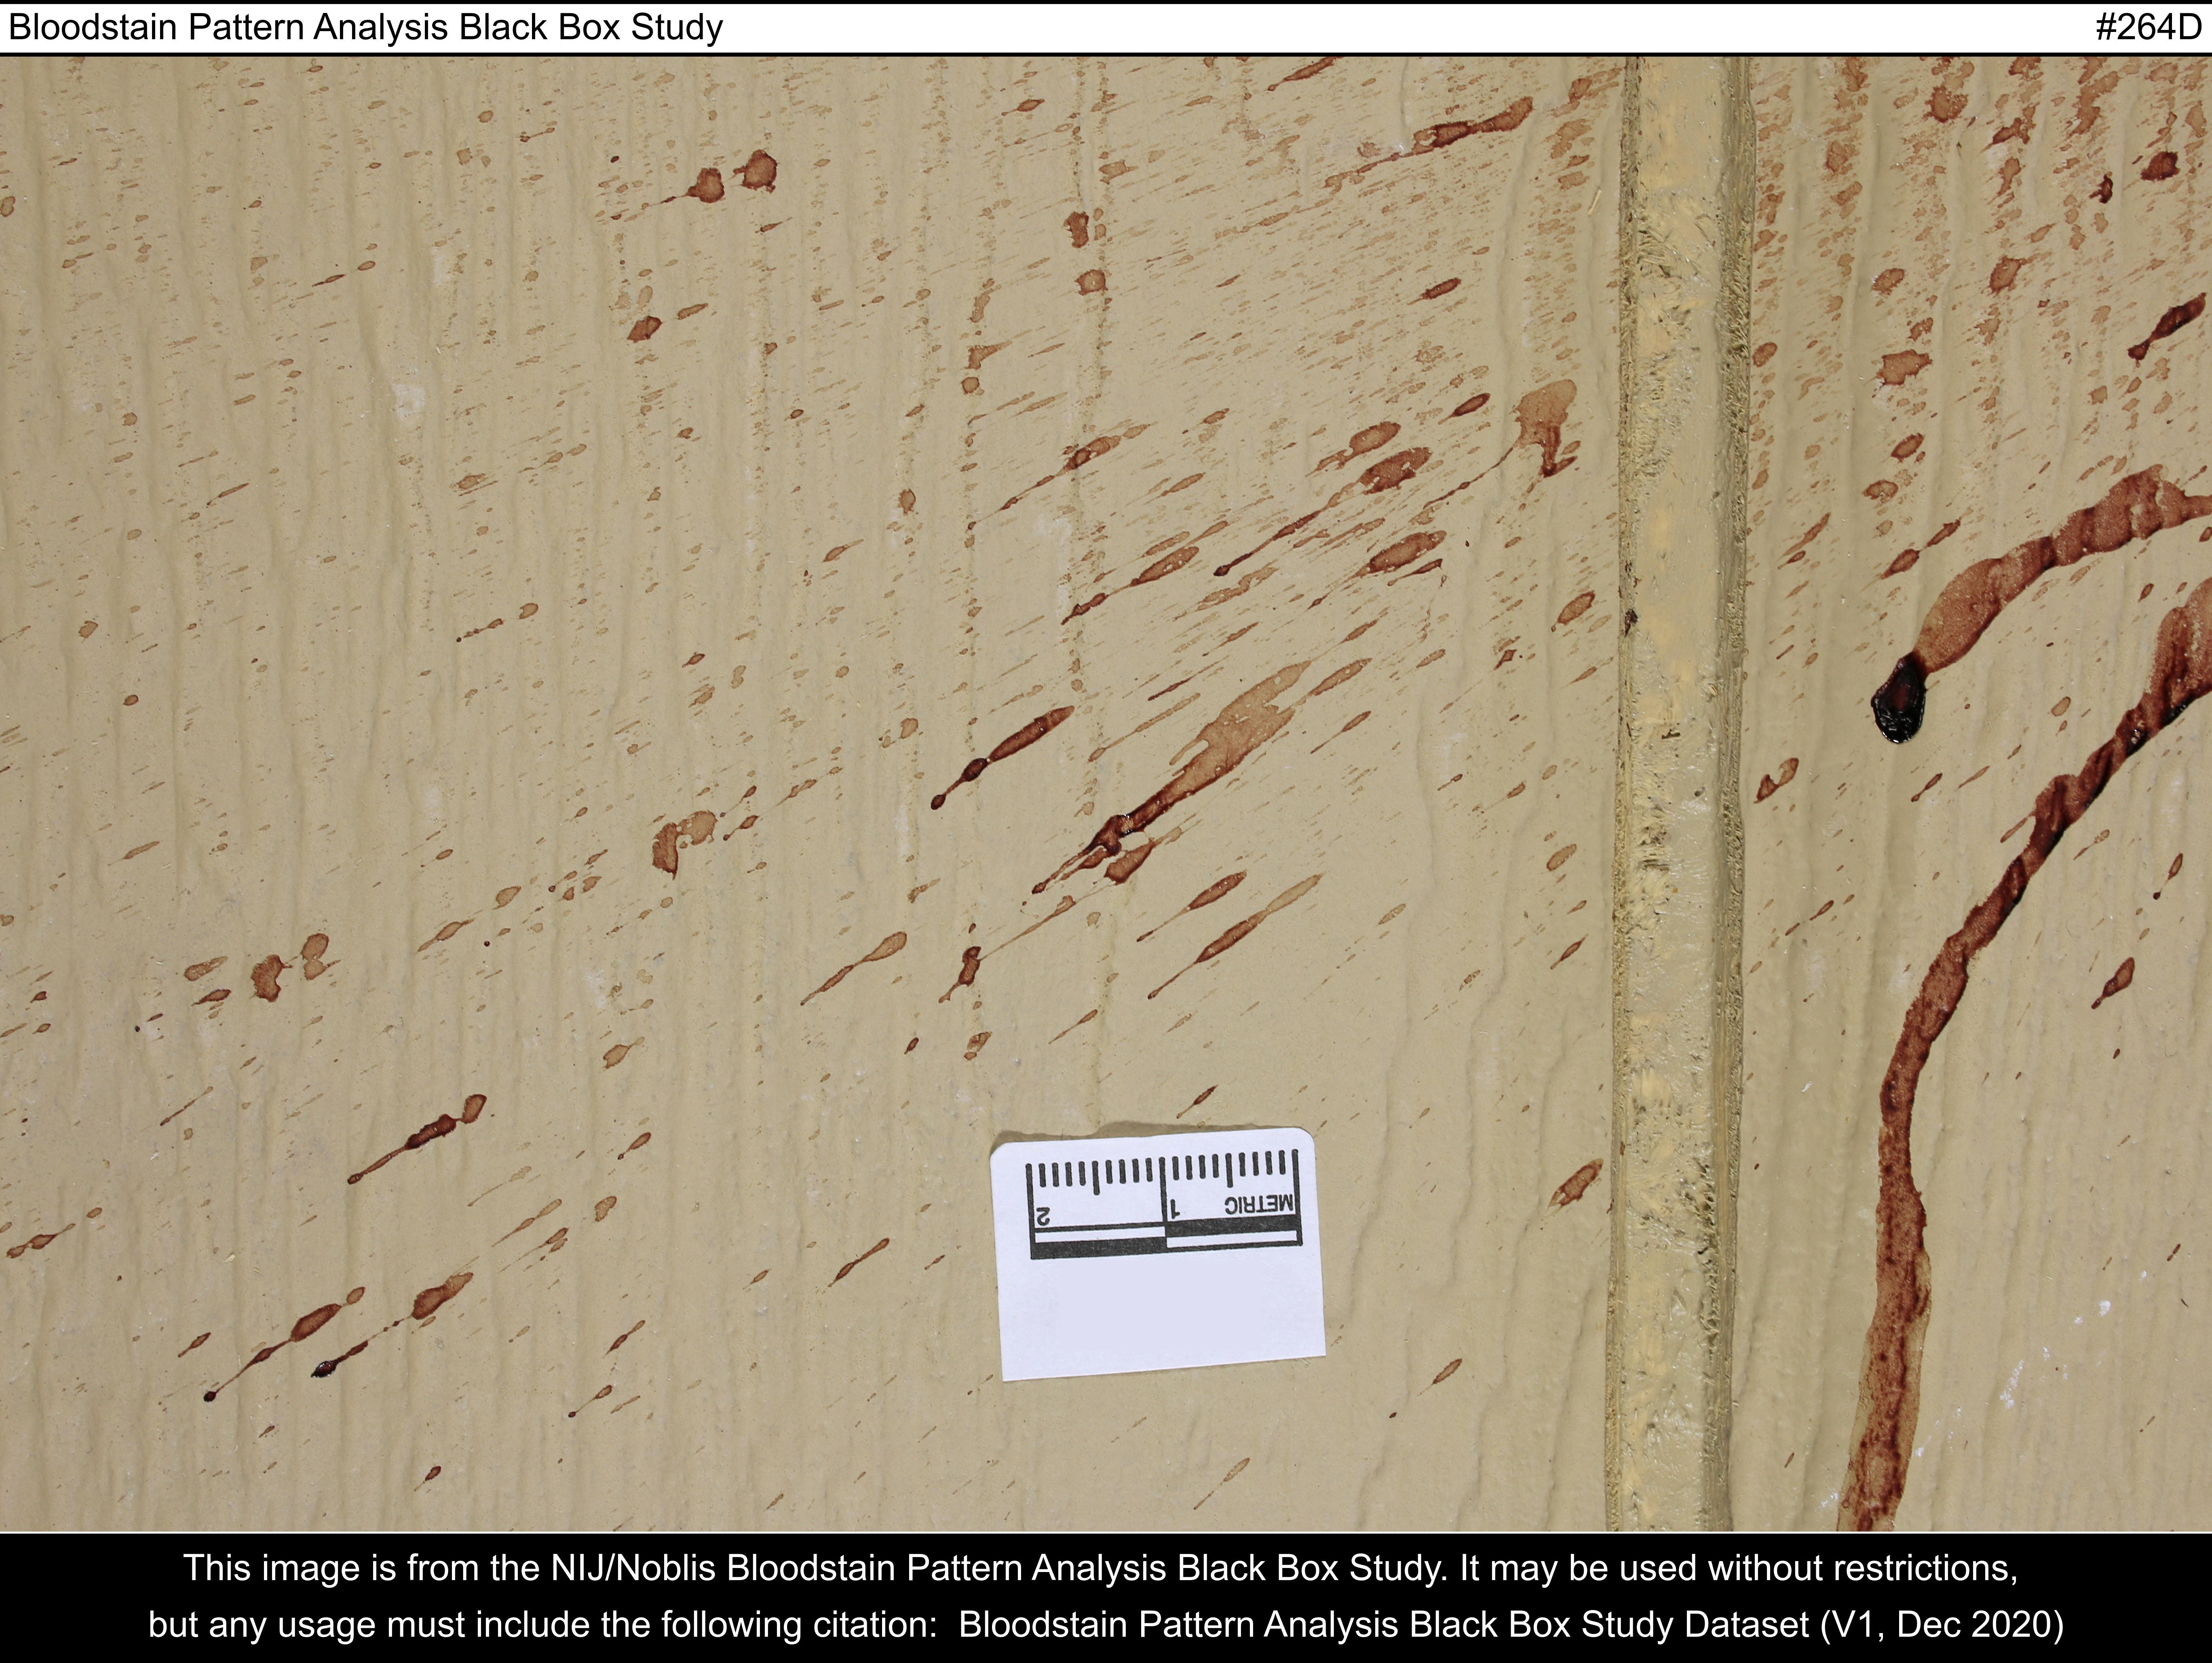Impact: (182, 93, 2146, 1480)
